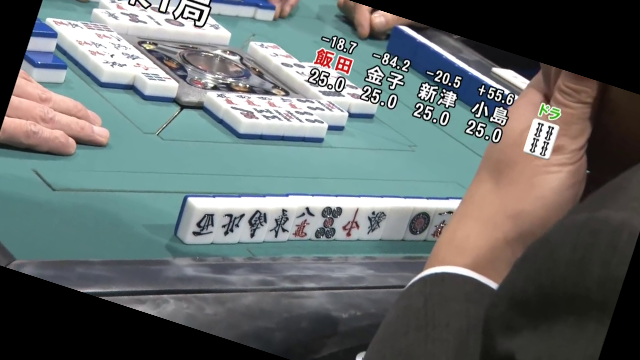Tehai: (185, 187, 523, 248)
